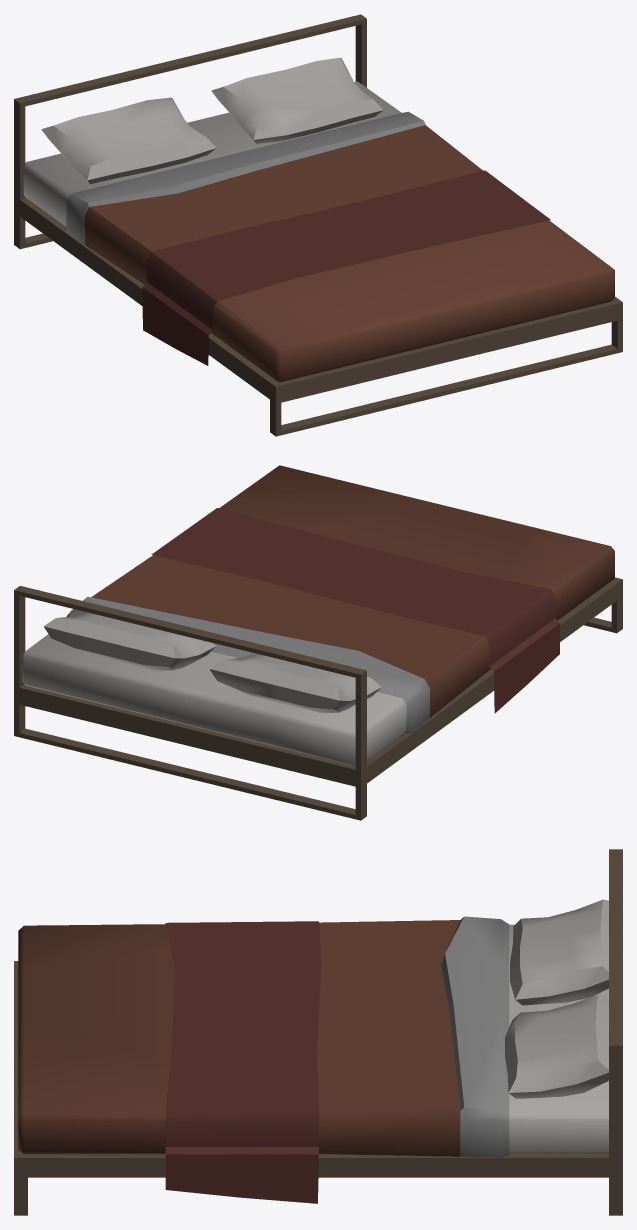
File: bed-king.glb
The picture shows the model from 3 angles, top to bottom: view 1: azimuth 30°, elevation 25°; view 2: azimuth 150°, elevation 25°; view 3: azimuth 270°, elevation 25°; orthographic projection. The views are drawn at different scales.
Parts seen in each view (by area): view 1: Bed_King; view 2: Bed_King; view 3: Bed_King.
Part boxes in pixels (box(x1,y1,x2,y2)): Bed_King: box(14, 14, 622, 436); Bed_King: box(14, 465, 622, 820); Bed_King: box(14, 849, 622, 1215).
Size of the model in its own units: 3.06 by 1.21 by 3.95.
1 material, 1 textured.
